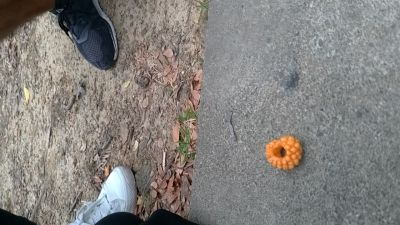eggs: (263, 135, 306, 171)
